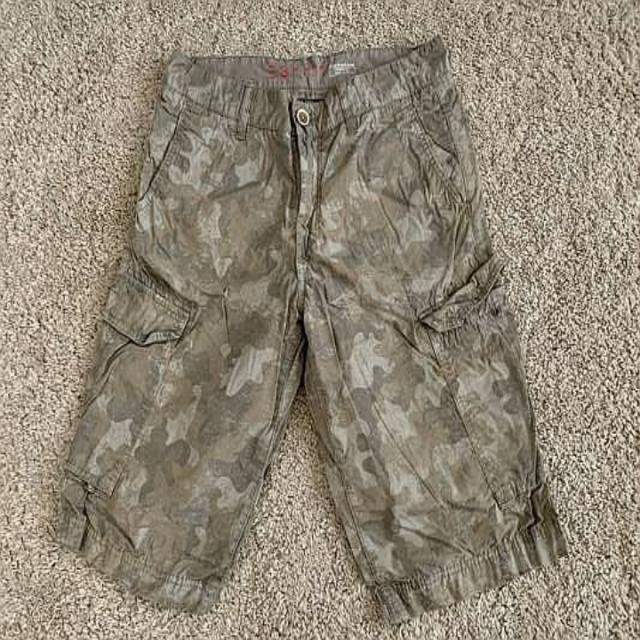SHORT: (44, 31, 592, 629)
